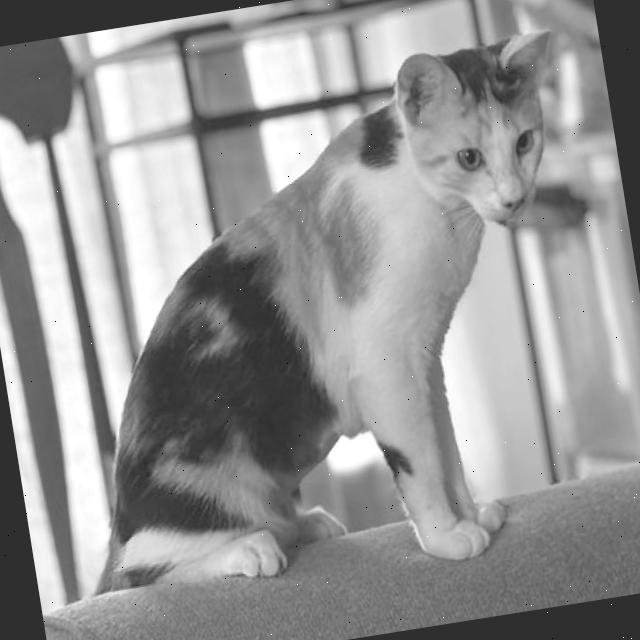calico_cat: (376, 15, 592, 250)
